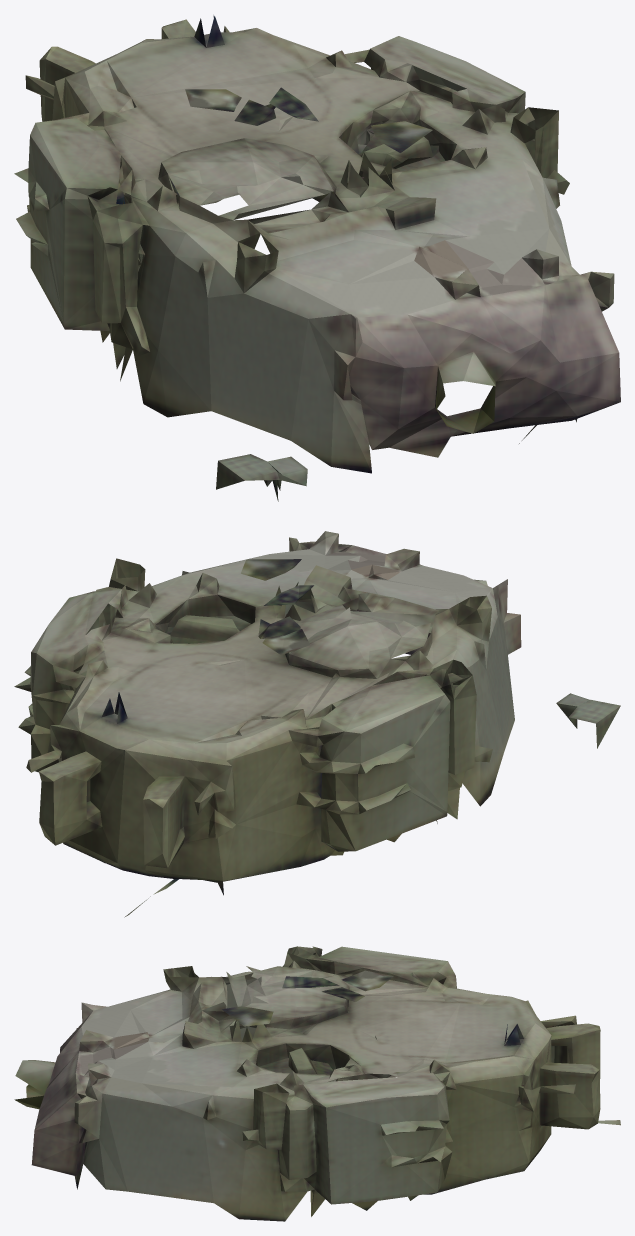
The model's file is firefly_turret.obj.
3 views of the same model, one above another, from view 1: azimuth 30°, elevation 25°; view 2: azimuth 150°, elevation 25°; view 3: azimuth 270°, elevation 25° (orthographic). The views are drawn at different scales.
Parts seen in each view (by area): view 1: firefly_turret; view 2: firefly_turret; view 3: firefly_turret.
Part boxes in pixels (left/top/right/bottom): firefly_turret: left=14, top=15, right=620, bottom=501; firefly_turret: left=14, top=531, right=620, bottom=917; firefly_turret: left=14, top=946, right=620, bottom=1221.
Bounding box in the file's own units: 2.23 × 1.07 × 3.54.
Materials: 1 (1 with a texture image).
